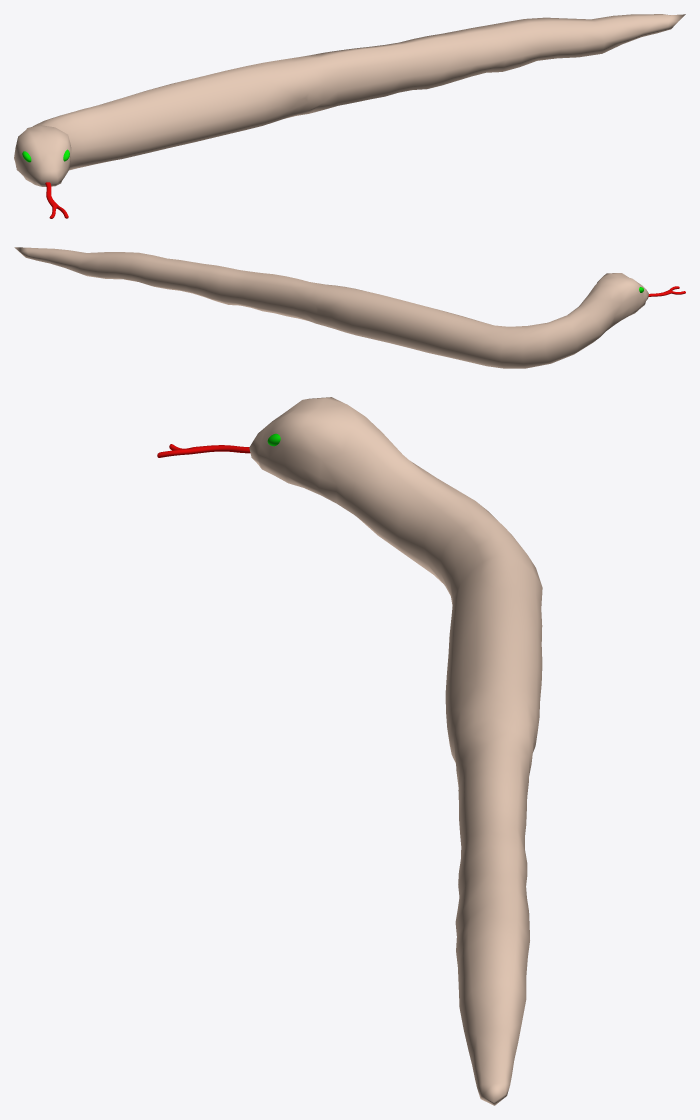
The model's file is SM_Snake.fbx.
3 renders of one model, top to bottom at view 1: azimuth 30°, elevation 25°; view 2: azimuth 150°, elevation 25°; view 3: azimuth 270°, elevation 25°, orthographic. The views are drawn at different scales.
Parts seen in each view (by area): view 1: snake; view 2: snake; view 3: snake.
Boxes of the visible parts, <box> form: snake: <box>14,14,685,218</box>; snake: <box>14,247,685,368</box>; snake: <box>157,397,542,1105</box>.
Size of the model in its own units: 1990 by 274 by 561.
